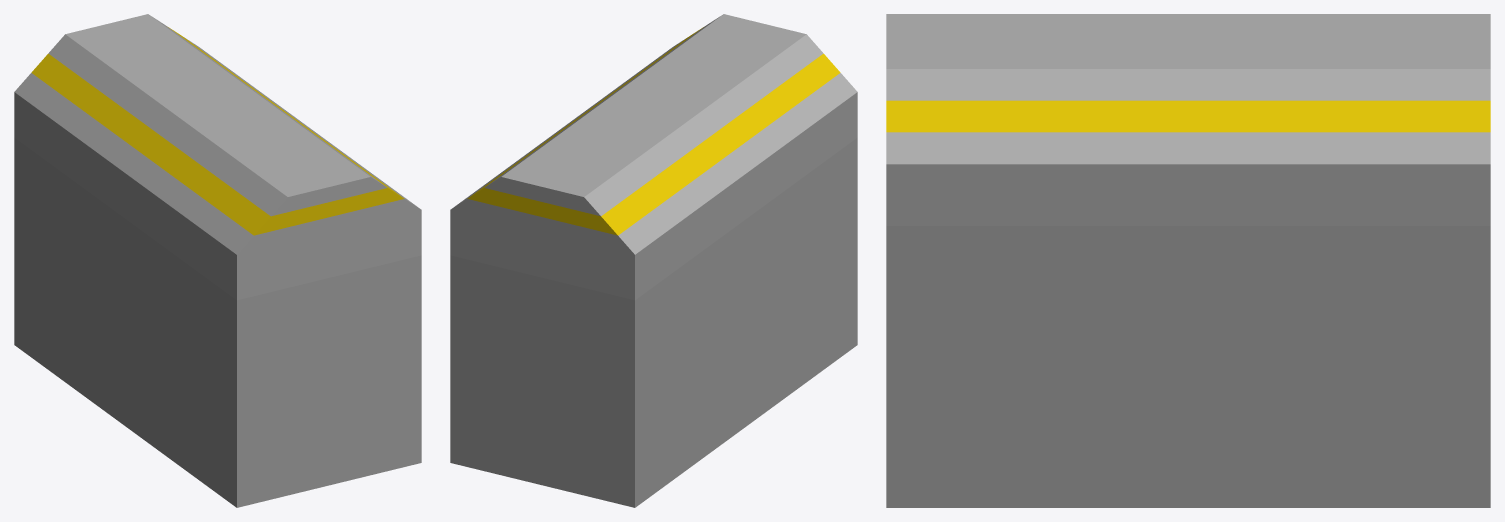
File: env_building_jerseybarrier_straight_lod1.fbx
3 renders of one model, left to right at view 1: azimuth 30°, elevation 25°; view 2: azimuth 150°, elevation 25°; view 3: azimuth 270°, elevation 25°, orthographic. The views are drawn at different scales.
Visible parts, largest first — view 1: polySurface1588; view 2: polySurface1588; view 3: polySurface1588.
Part boxes in pixels (x1,y1,x2,y2): polySurface1588: (14,14,421,507); polySurface1588: (450,14,857,507); polySurface1588: (886,14,1490,507).
Size of the model in its own units: 14.38 by 22.19 by 30.
